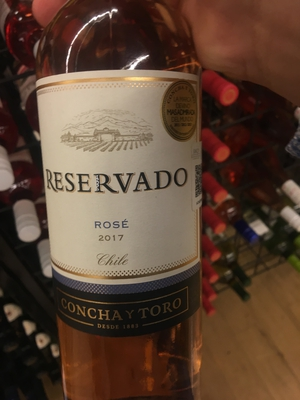reservado rose: (33, 8, 201, 400)
